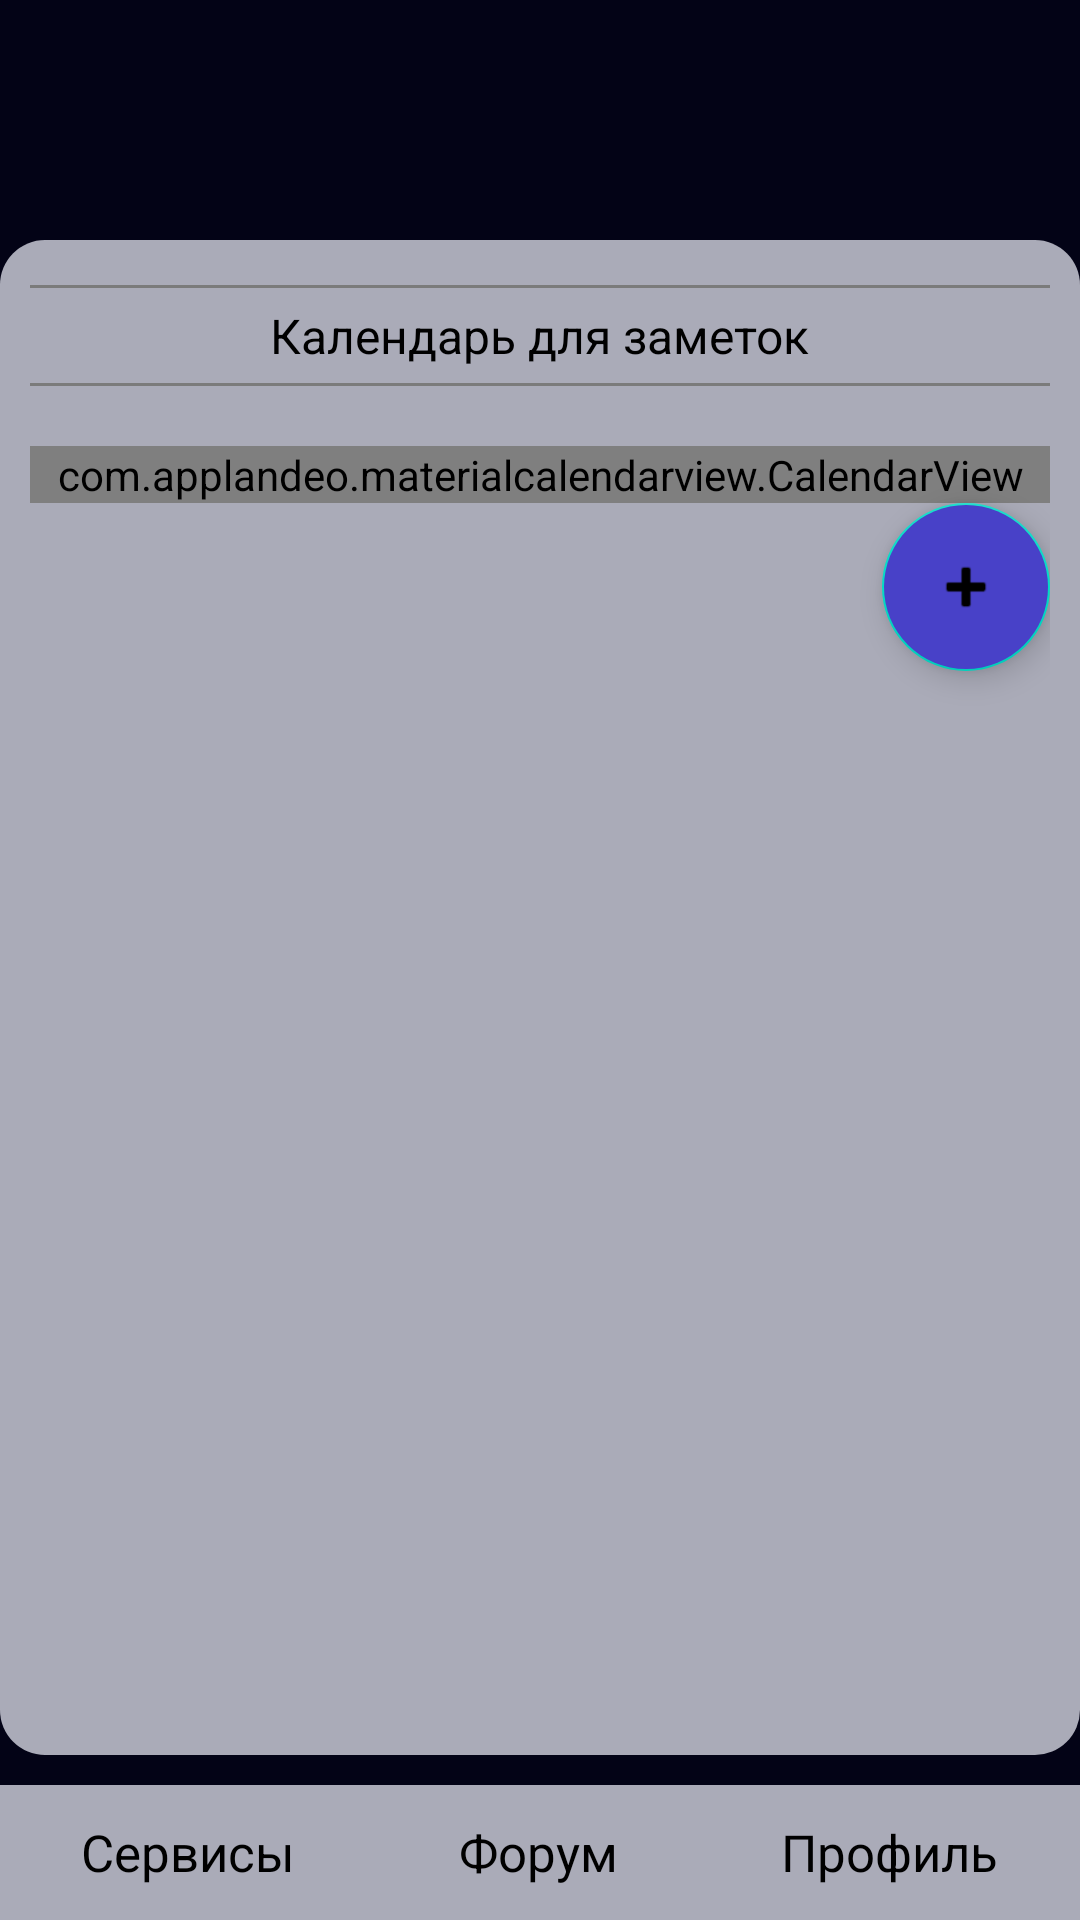

Icon click points for this 1080w x 1920h phone screenshot, format (x=x, y=y):
add: (x=966, y=587)
